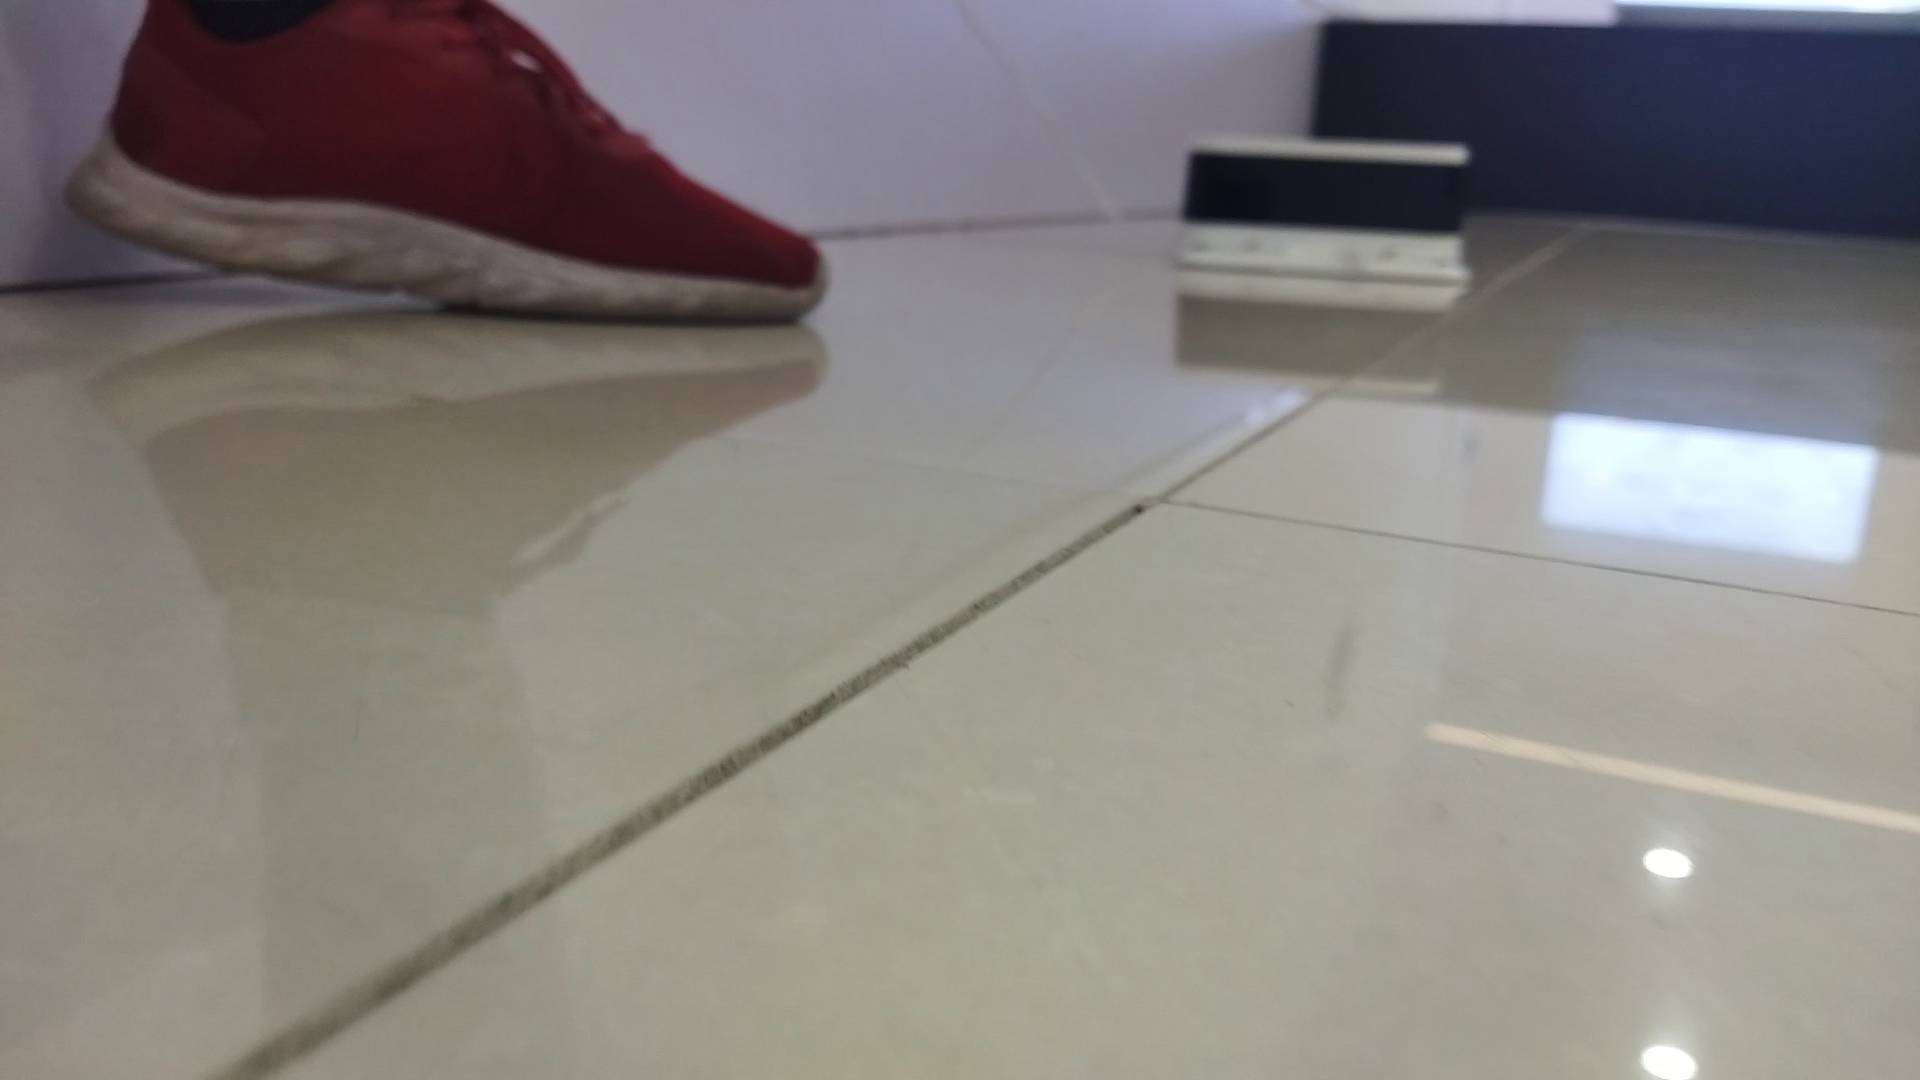recharge seat: (1176, 135, 1476, 286)
